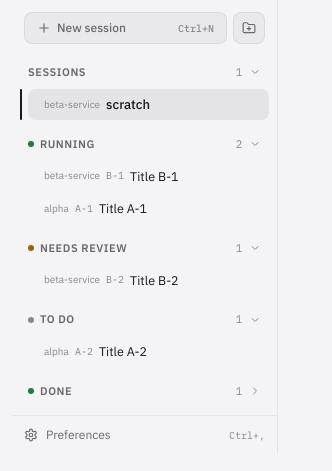
Test: UnifiedSidebar grouped by status › opens view options from right-click on empty space and switches back to project grouping
Right-click the navigation bar at (144, 234), box left=12, top=52, right=277, bottom=415
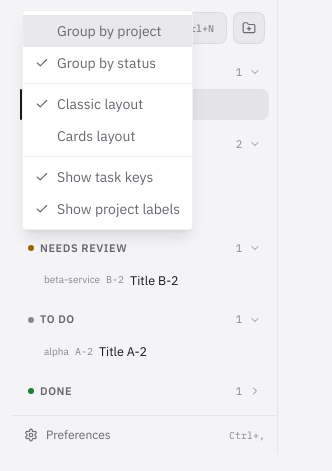
Click the menu item "Group by project" at (108, 31), box left=23, top=15, right=192, bottom=47
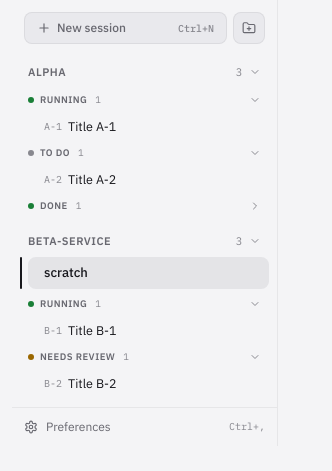
Check: the button "alpha 3" is shown, box left=20, top=60, right=269, bottom=84
